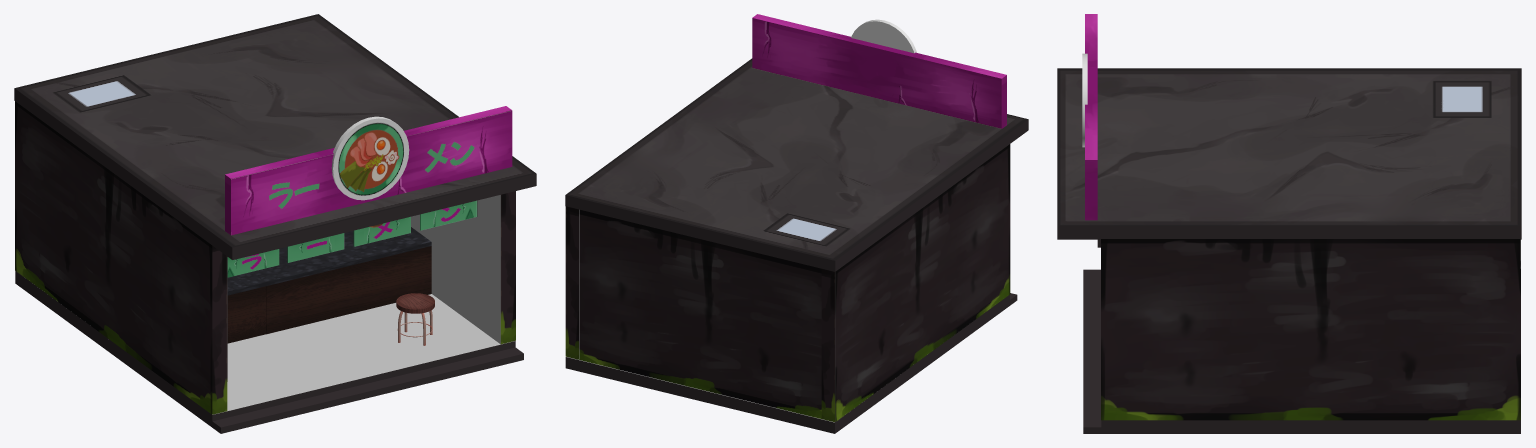
Rendered from Lame_Shop2.fbx.
3 views of the same model, side by side, from view 1: azimuth 30°, elevation 25°; view 2: azimuth 150°, elevation 25°; view 3: azimuth 270°, elevation 25° (orthographic). The views are drawn at different scales.
Visible parts, largest first — view 1: Roof, Wall_SIde.002, Floor/Ground, Roof.001, Cylinder, Wall_SIde.001, Sign, Stool, Name_Curtin.001, Name_Curtin.003, Name_Curtin.002, Name_Curtin; view 2: Roof, Wall_back, Wall_SIde.002, Roof.001, Floor/Ground, Wall_SIde.001, Sign; view 3: Roof, Wall_SIde.001, Floor/Ground, Roof.001.
Part boxes in pixels (x1,y1,x2,y2): Roof: (14,14,536,259); Wall_SIde.002: (15,101,227,414); Floor/Ground: (15,271,523,433); Roof.001: (225,106,512,235); Cylinder: (227,227,431,343); Wall_SIde.001: (411,191,515,344); Sign: (331,116,409,200); Stool: (396,293,434,345); Name_Curtin.001: (287,233,344,262); Name_Curtin.003: (420,200,477,230); Name_Curtin.002: (353,216,410,246); Name_Curtin: (227,249,279,277); Roof: (565,58,1028,271); Wall_back: (579,209,842,422); Wall_SIde.002: (821,144,1010,421); Roof.001: (752,14,1006,128); Floor/Ground: (565,293,1017,433); Wall_SIde.001: (565,206,579,359); Sign: (851,19,916,53); Roof: (1057,68,1521,247); Wall_SIde.001: (1101,239,1520,420); Floor/Ground: (1083,269,1520,433); Roof.001: (1085,14,1097,220).
Bounding box in the file's own units: 522 × 457 × 649.
